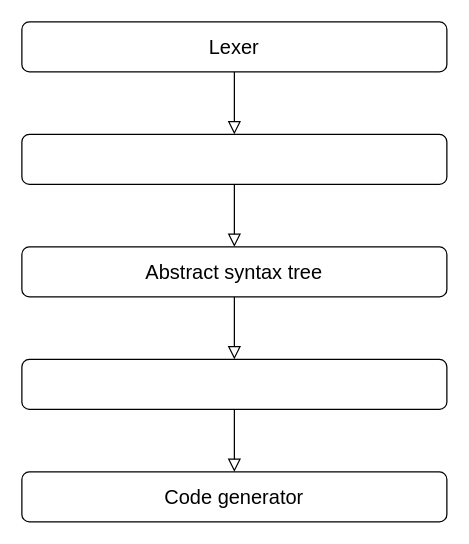
The diagram is 469 pixels wide and 544 high, and some of its shapes have lost their labels. The centre of each missing label's shape, as x and y in pixels:
"Parser" belongs at (x=234, y=158).
"Semantic analyzer" belongs at (x=234, y=383).
